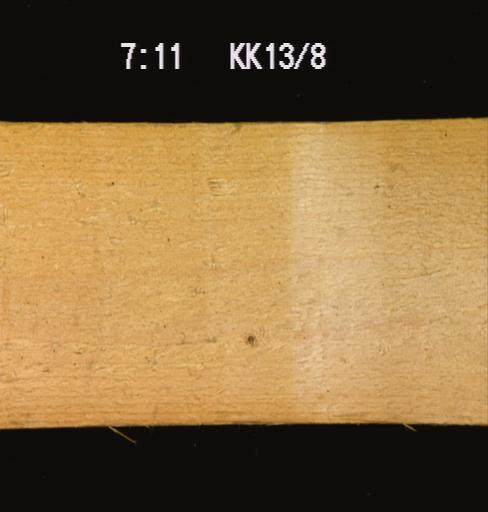small_knot: (243, 328, 258, 347)
